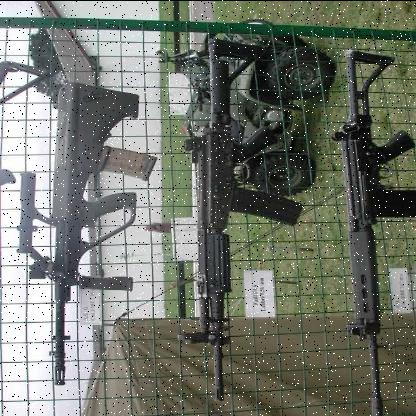rifle: (153, 34, 302, 413), (2, 69, 157, 391), (305, 32, 416, 416)
